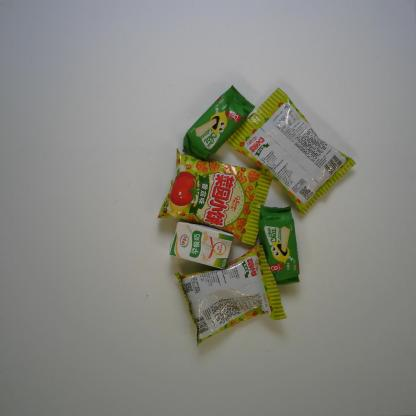Dessert: (180, 84, 257, 161), (258, 203, 301, 286)
Milk: (167, 218, 235, 270)
Puffed Food: (226, 87, 358, 217), (174, 242, 287, 348), (157, 147, 272, 247)
